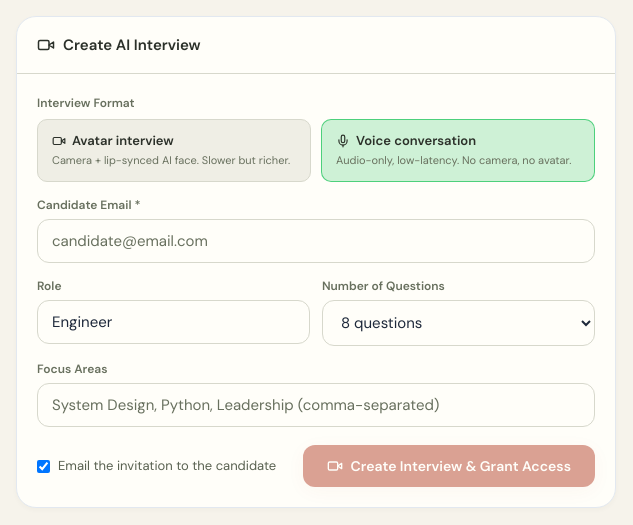
creating an interview › shows the kind of interview the server will run, not the one picked
Click the button "Avatar interview" at coordinates (174, 150), box [37, 119, 311, 182]
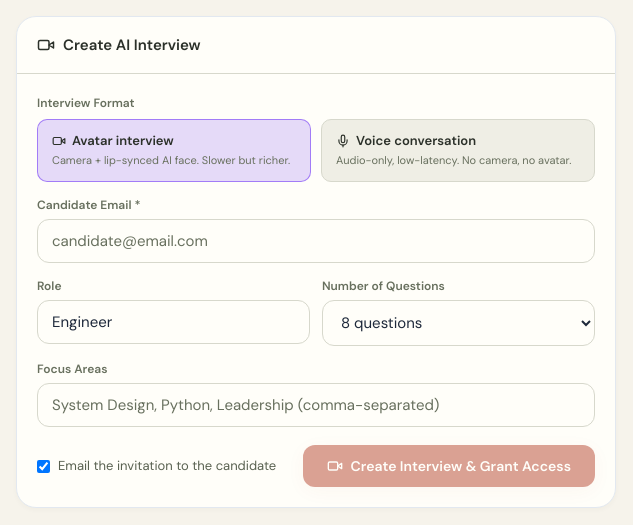
Type "ada@x.com" into the field with placeholder "candidate@email.com" at coordinates (316, 241), box [37, 219, 595, 263]
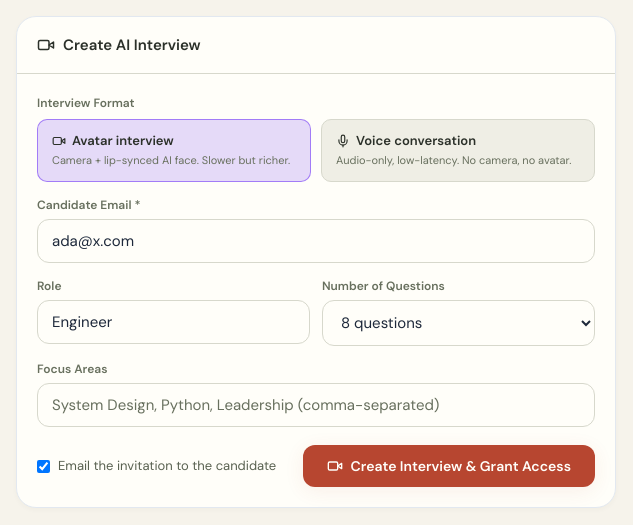
Click the button "Create Interview & Grant Access" at coordinates (449, 466), box [303, 445, 595, 487]
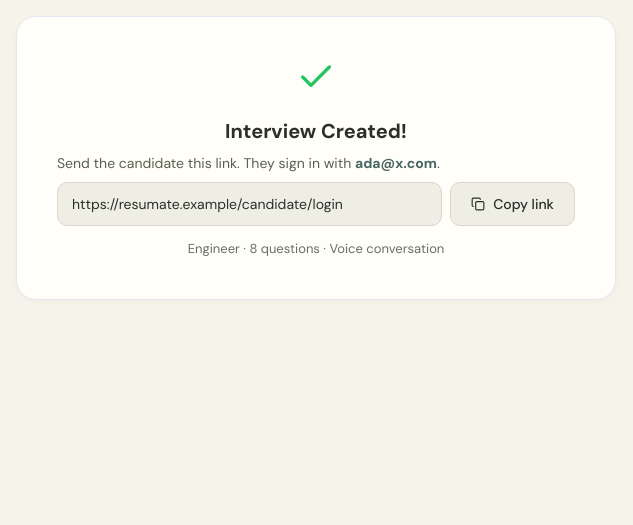
Result: the heading "Interview Created!" is shown at [225, 118, 407, 144]
Result: the text "Engineer · 8 questions · Voice conversation" is shown at [188, 240, 444, 257]
